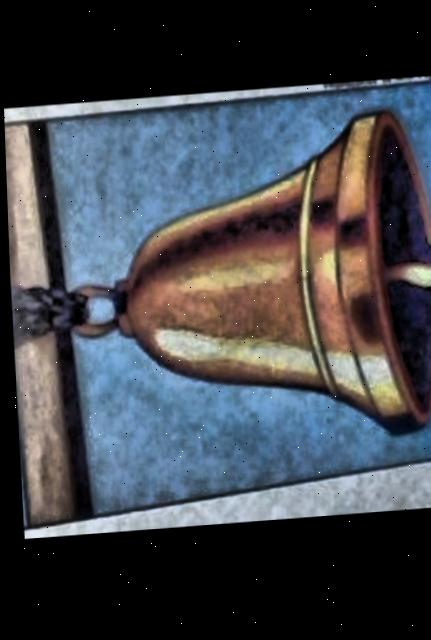La Campana: (3, 85, 431, 522)
